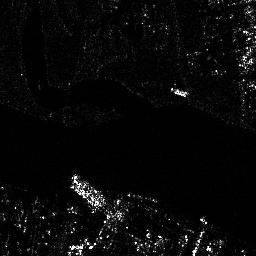ship: (72, 175, 107, 206), (170, 87, 194, 96)
